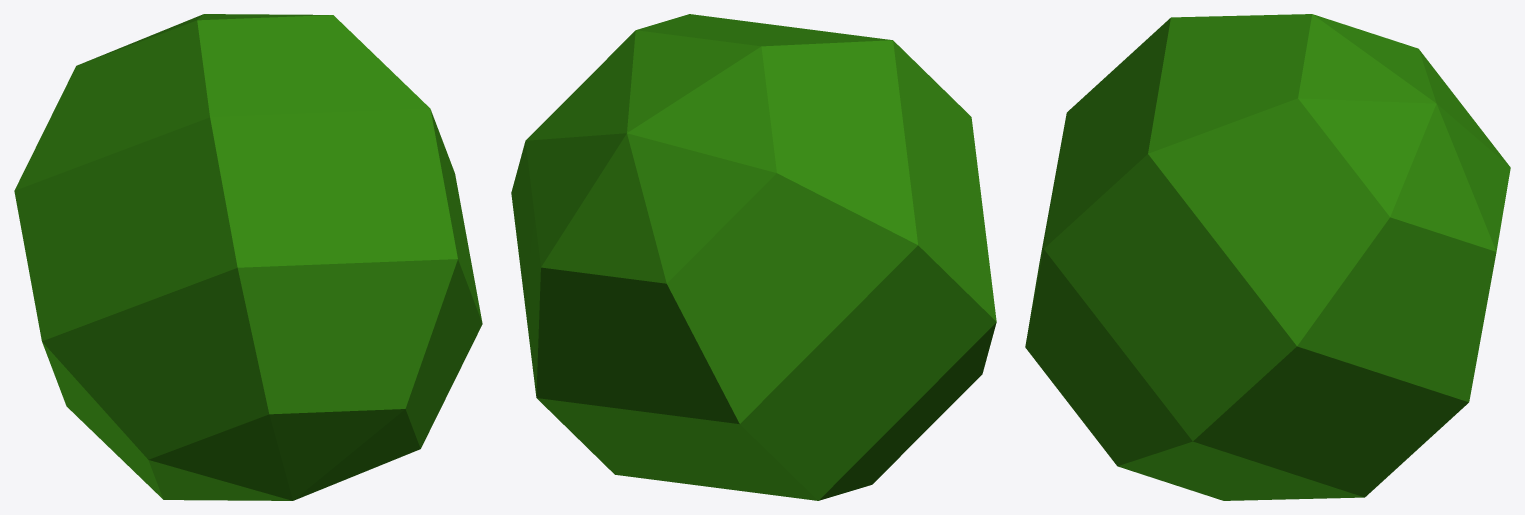
The model's file is quadua.fbx.
3 views of the same model, side by side, from view 1: azimuth 30°, elevation 25°; view 2: azimuth 150°, elevation 25°; view 3: azimuth 270°, elevation 25° (orthographic). The views are drawn at different scales.
Parts seen in each view (by area): view 1: quadua; view 2: quadua; view 3: quadua.
Part boxes in pixels (bbox=[...]): quadua: bbox=[14, 14, 482, 500]; quadua: bbox=[511, 14, 996, 500]; quadua: bbox=[1025, 14, 1510, 500].
Bounding box in the file's own units: 58.46 × 57.65 × 55.35.
